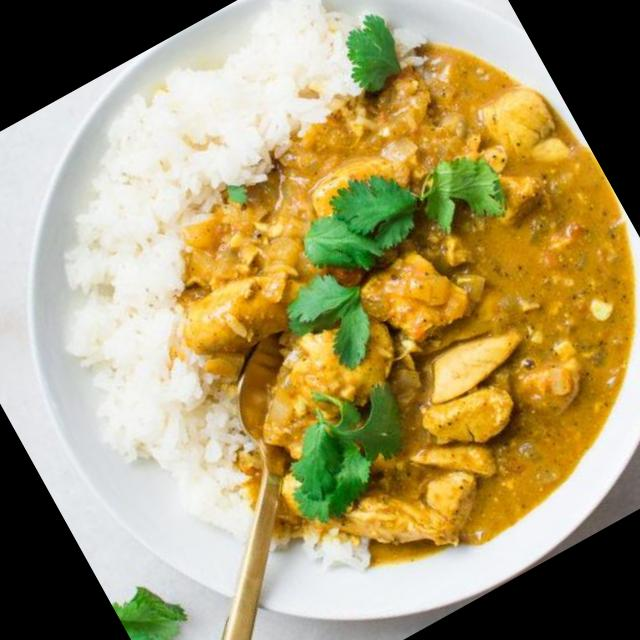chicken: (141, 22, 640, 597)
rice: (28, 203, 312, 592), (22, 0, 375, 258)
